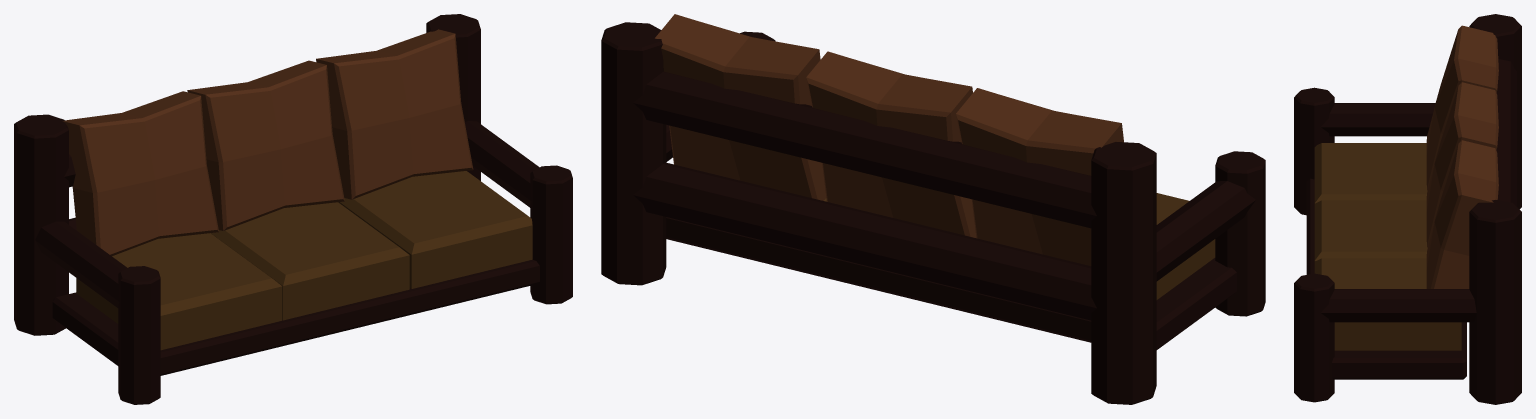
The model's file is couch.obj.
3 views of the same model, side by side, from view 1: azimuth 30°, elevation 25°; view 2: azimuth 150°, elevation 25°; view 3: azimuth 270°, elevation 25° (orthographic). The views are drawn at different scales.
Visible parts, largest first — view 1: ThreeSeaterCouch1, Pad1ThreeSeaterCouch1, Pad3ThreeSeaterCouch1, Pad2ThreeSeaterCouch1, Pad5ThreeSeaterCouch1, Pad6ThreeSeaterCouch1, Pad4ThreeSeaterCouch1; view 2: ThreeSeaterCouch1, Pad3ThreeSeaterCouch1, Pad2ThreeSeaterCouch1, Pad1ThreeSeaterCouch1, Pad4ThreeSeaterCouch1; view 3: ThreeSeaterCouch1, Pad6ThreeSeaterCouch1, Pad5ThreeSeaterCouch1, Pad4ThreeSeaterCouch1, Pad3ThreeSeaterCouch1, Pad2ThreeSeaterCouch1, Pad1ThreeSeaterCouch1.
Boxes of the visible parts, left/top/right/bottom form: ThreeSeaterCouch1: left=14, top=14, right=572, bottom=404; Pad1ThreeSeaterCouch1: left=62, top=91, right=218, bottom=255; Pad3ThreeSeaterCouch1: left=316, top=29, right=473, bottom=199; Pad2ThreeSeaterCouch1: left=187, top=60, right=344, bottom=230; Pad5ThreeSeaterCouch1: left=210, top=202, right=409, bottom=320; Pad6ThreeSeaterCouch1: left=338, top=171, right=532, bottom=288; Pad4ThreeSeaterCouch1: left=76, top=233, right=282, bottom=350; ThreeSeaterCouch1: left=601, top=22, right=1265, bottom=404; Pad3ThreeSeaterCouch1: left=655, top=14, right=826, bottom=200; Pad2ThreeSeaterCouch1: left=806, top=51, right=976, bottom=237; Pad1ThreeSeaterCouch1: left=956, top=88, right=1123, bottom=265; Pad4ThreeSeaterCouch1: left=1156, top=193, right=1215, bottom=299; ThreeSeaterCouch1: left=1294, top=14, right=1521, bottom=404; Pad6ThreeSeaterCouch1: left=1314, top=258, right=1461, bottom=350; Pad5ThreeSeaterCouch1: left=1314, top=200, right=1427, bottom=261; Pad4ThreeSeaterCouch1: left=1314, top=143, right=1427, bottom=203; Pad3ThreeSeaterCouch1: left=1426, top=140, right=1498, bottom=288; Pad2ThreeSeaterCouch1: left=1426, top=82, right=1498, bottom=247; Pad1ThreeSeaterCouch1: left=1426, top=25, right=1498, bottom=190.
Bounding box in the file's own units: 2.56 × 1.1 × 1.18.
